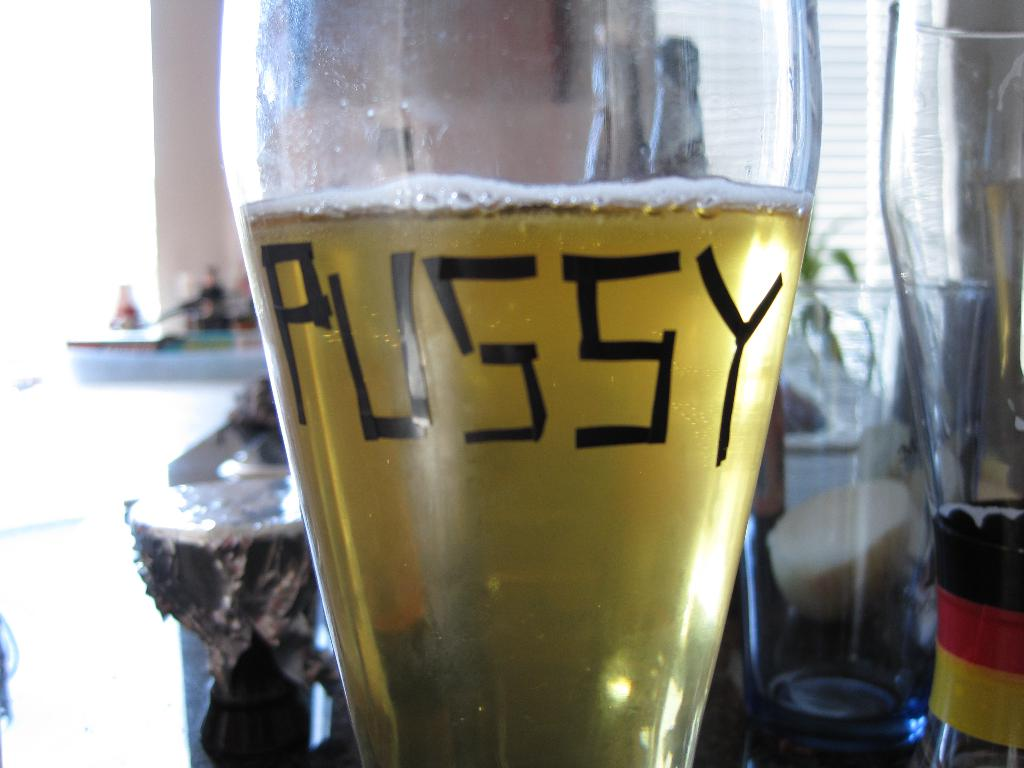Beer: (199, 0, 832, 767)
